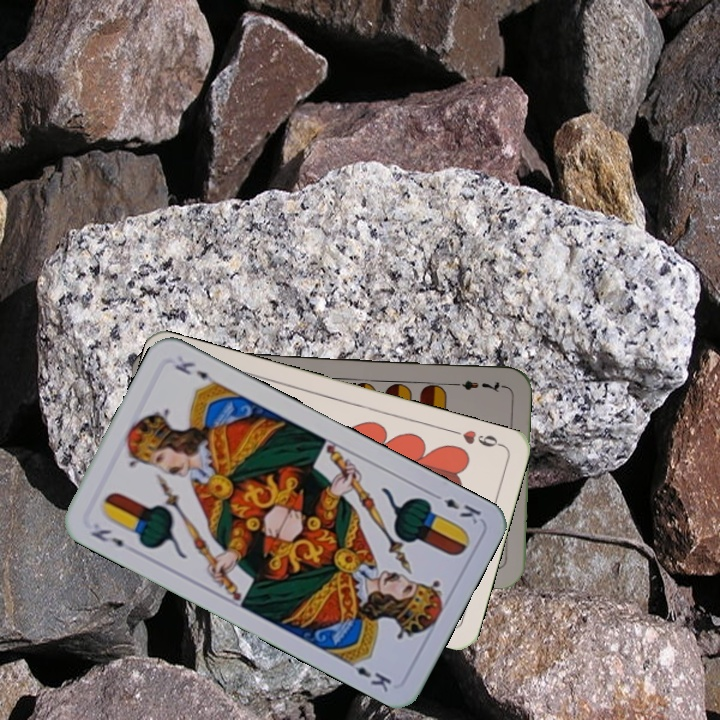E7: (446, 376, 505, 394)
EK: (428, 488, 484, 527), (86, 525, 127, 550)
H9: (447, 425, 505, 450)
